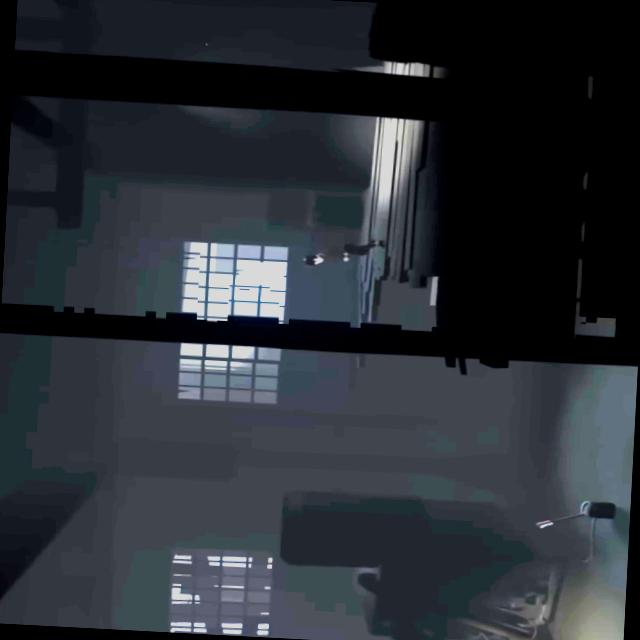boy: (301, 236, 376, 268)
